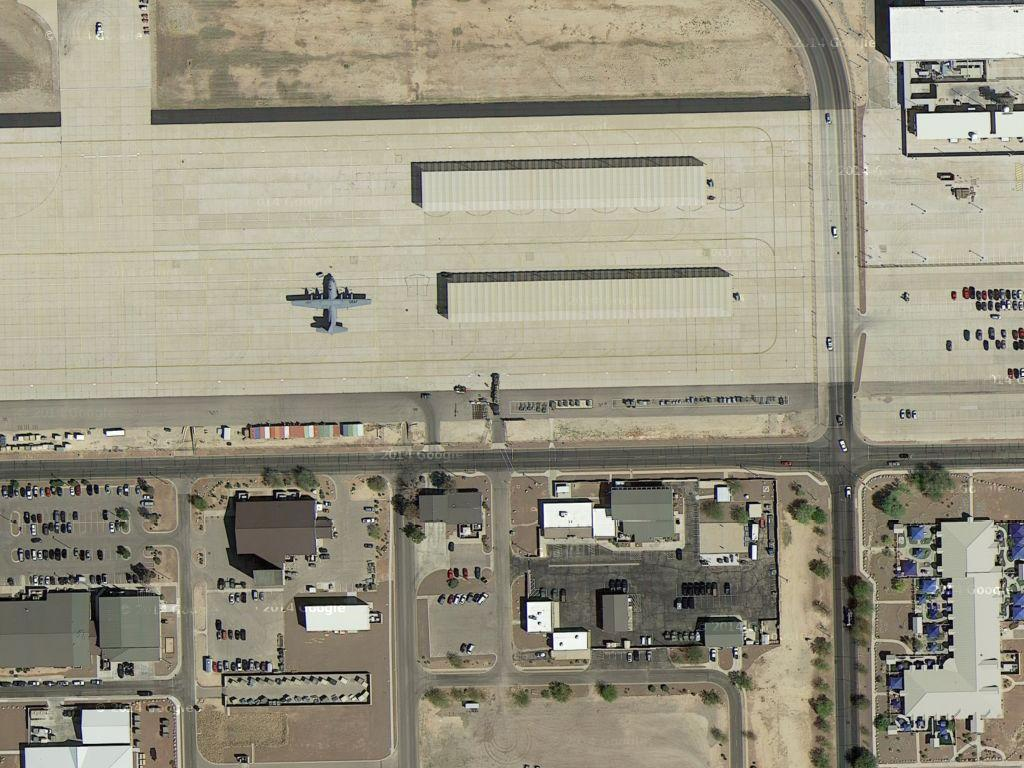C-130: (284, 272, 374, 337)
